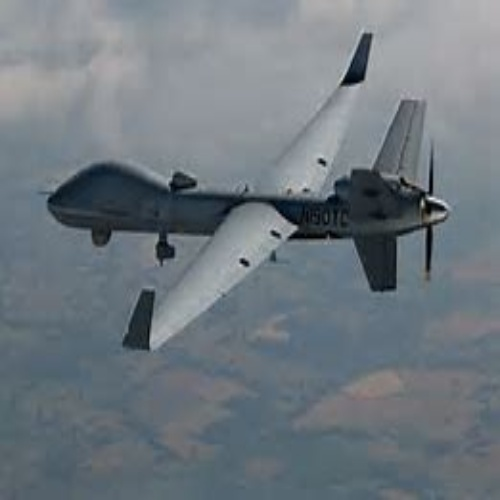uav439: (37, 25, 456, 357)
